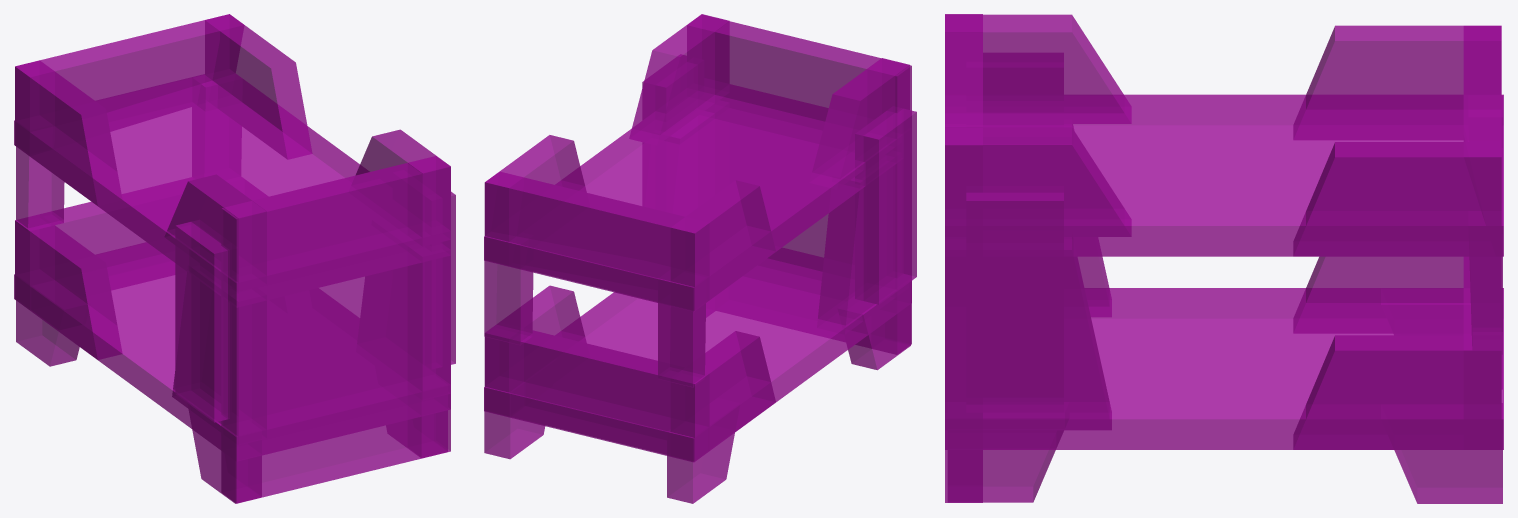
The model's file is SM_Prop_Bunk_Bed_03_Collision.fbx.
The picture shows the model from 3 angles, left to right: view 1: azimuth 30°, elevation 25°; view 2: azimuth 150°, elevation 25°; view 3: azimuth 270°, elevation 25°; orthographic projection. The views are drawn at different scales.
Parts seen in each view (by area): view 1: SM_Prop_Bunk_Bed_03_Collision; view 2: SM_Prop_Bunk_Bed_03_Collision; view 3: SM_Prop_Bunk_Bed_03_Collision.
Boxes of the visible parts, x1,y1,x2,y2 form: SM_Prop_Bunk_Bed_03_Collision: [14, 14, 455, 503]; SM_Prop_Bunk_Bed_03_Collision: [484, 14, 916, 503]; SM_Prop_Bunk_Bed_03_Collision: [945, 14, 1503, 503].
Bounding box in the file's own units: 169 × 191 × 269.
